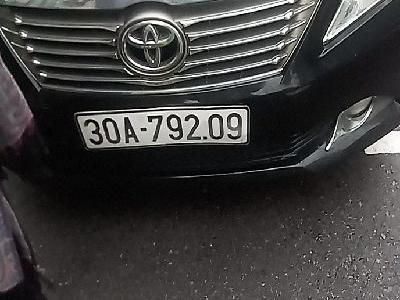car: (73, 105, 251, 152)
